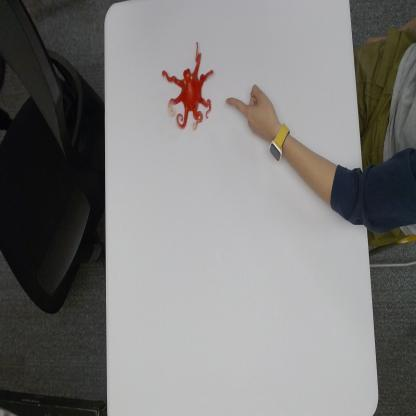Arm: (291, 134, 416, 235)
Hand: (224, 81, 276, 139)
Octopus: (162, 39, 214, 132)
